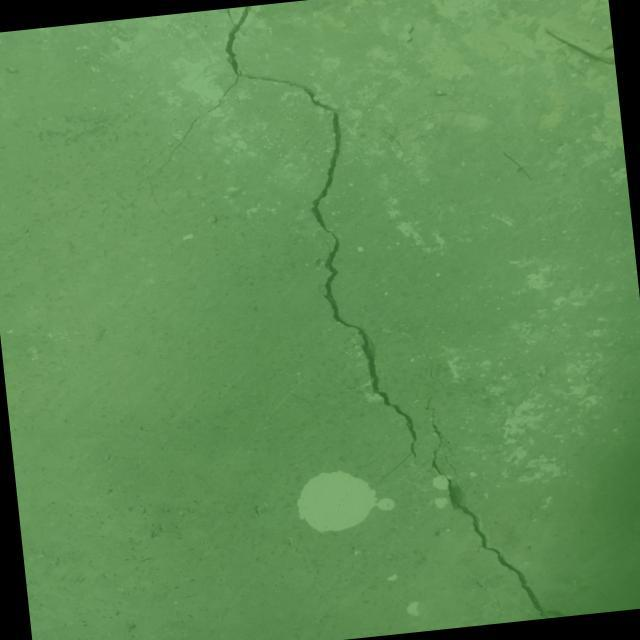crack: (46, 0, 420, 491), (422, 382, 567, 628), (0, 213, 57, 246), (150, 184, 170, 217)
